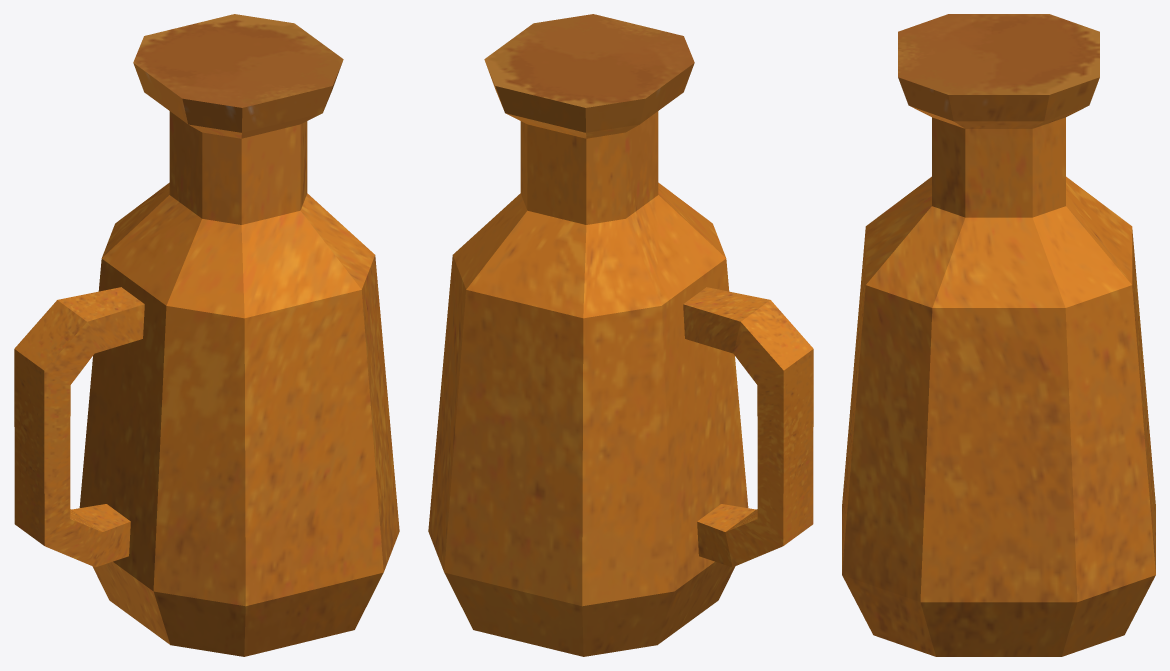
Rendered from SM_pot3.fbx.
3 renders of one model, left to right at view 1: azimuth 30°, elevation 25°; view 2: azimuth 150°, elevation 25°; view 3: azimuth 270°, elevation 25°, orthographic. The views are drawn at different scales.
Parts seen in each view (by area): view 1: pot3; view 2: pot3; view 3: pot3.
Part boxes in pixels (left/top/right/bottom): pot3: left=14, top=14, right=399, bottom=656; pot3: left=428, top=14, right=813, bottom=656; pot3: left=842, top=14, right=1155, bottom=656.
Size of the model in its own units: 7.24 by 11.2 by 5.76.
